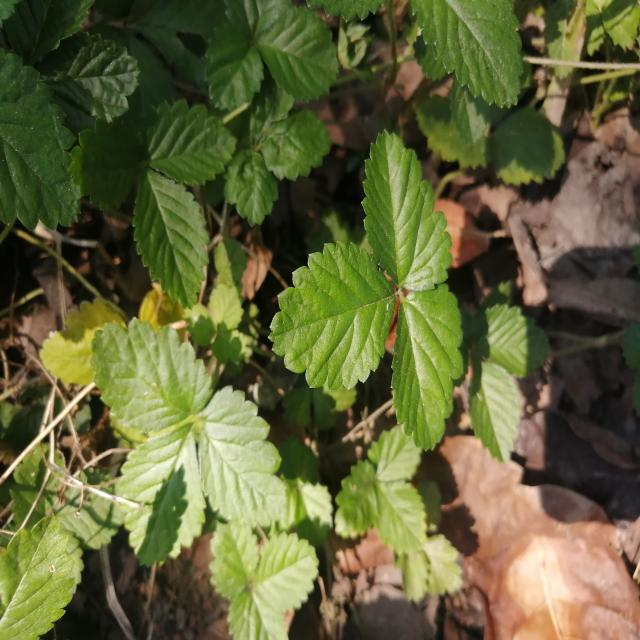Mock_strawberry: (286, 141, 481, 452), (95, 311, 323, 531)
